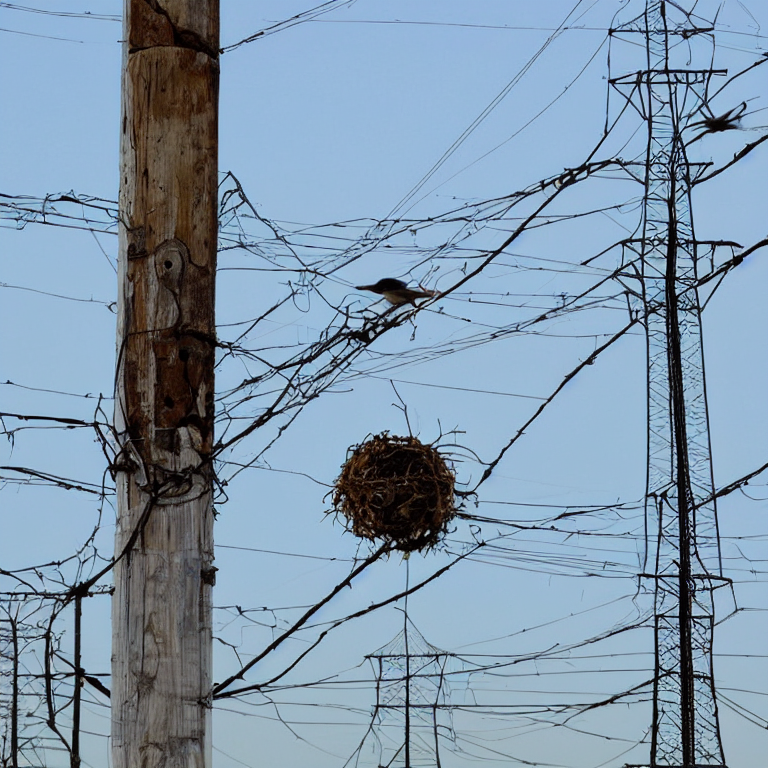nest: (341, 438, 452, 545)
